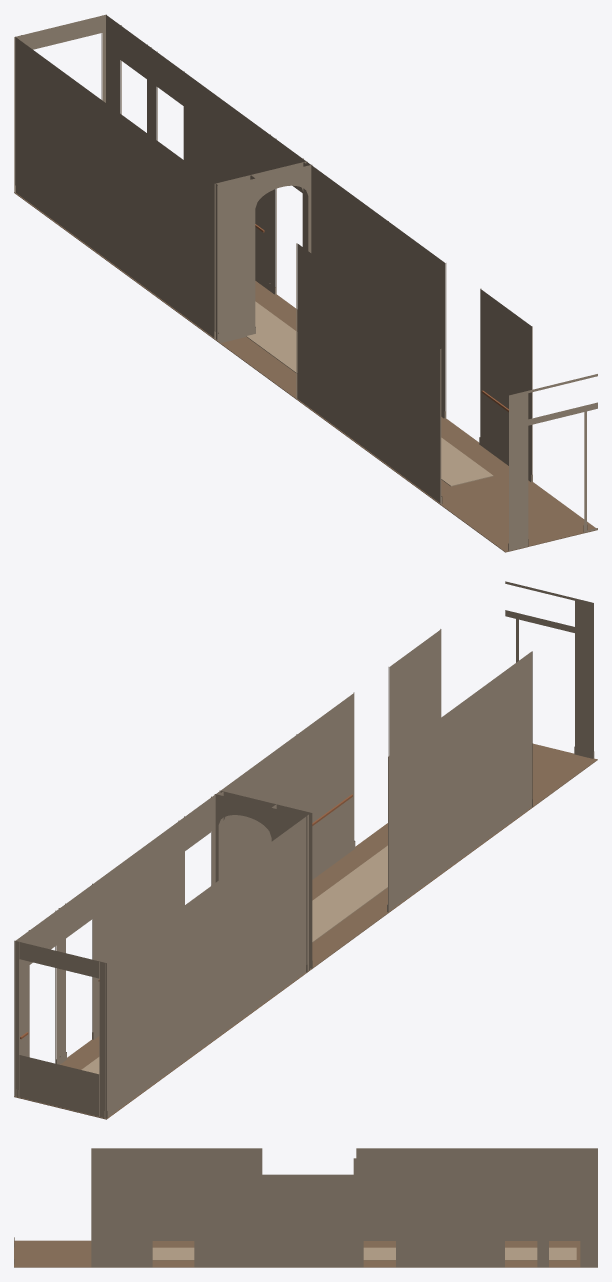
Rendered from corridor-3.glb.
3 views of the same model, one above another, from view 1: azimuth 30°, elevation 25°; view 2: azimuth 150°, elevation 25°; view 3: azimuth 270°, elevation 25° (orthographic). The views are drawn at different scales.
Visible parts, largest first — view 1: DESIGN | corridor removable wall finish, DESIGN | corridor floor finish, DESIGN | Quiet hall runner; view 2: DESIGN | corridor removable wall finish, DESIGN | corridor floor finish, DESIGN | Quiet hall runner; view 3: DESIGN | corridor removable wall finish, DESIGN | corridor floor finish, DESIGN | Quiet hall runner.
Part boxes in pixels (x1=…): DESIGN | corridor removable wall finish: x1=14, y1=14, x2=597, y2=550; DESIGN | corridor floor finish: x1=14, y1=192, x2=597, y2=552; DESIGN | Quiet hall runner: x1=246, y1=301, x2=493, y2=486; DESIGN | corridor removable wall finish: x1=14, y1=581, x2=594, y2=1118; DESIGN | corridor floor finish: x1=14, y1=743, x2=597, y2=1119; DESIGN | Quiet hall runner: x1=81, y1=845, x2=387, y2=1074; DESIGN | corridor removable wall finish: x1=14, y1=1148, x2=597, y2=1267; DESIGN | corridor floor finish: x1=14, y1=1240, x2=597, y2=1267; DESIGN | Quiet hall runner: x1=152, y1=1247, x2=576, y2=1260.
Bounding box in the file's own units: 1.7 × 2.74 × 15.63.
